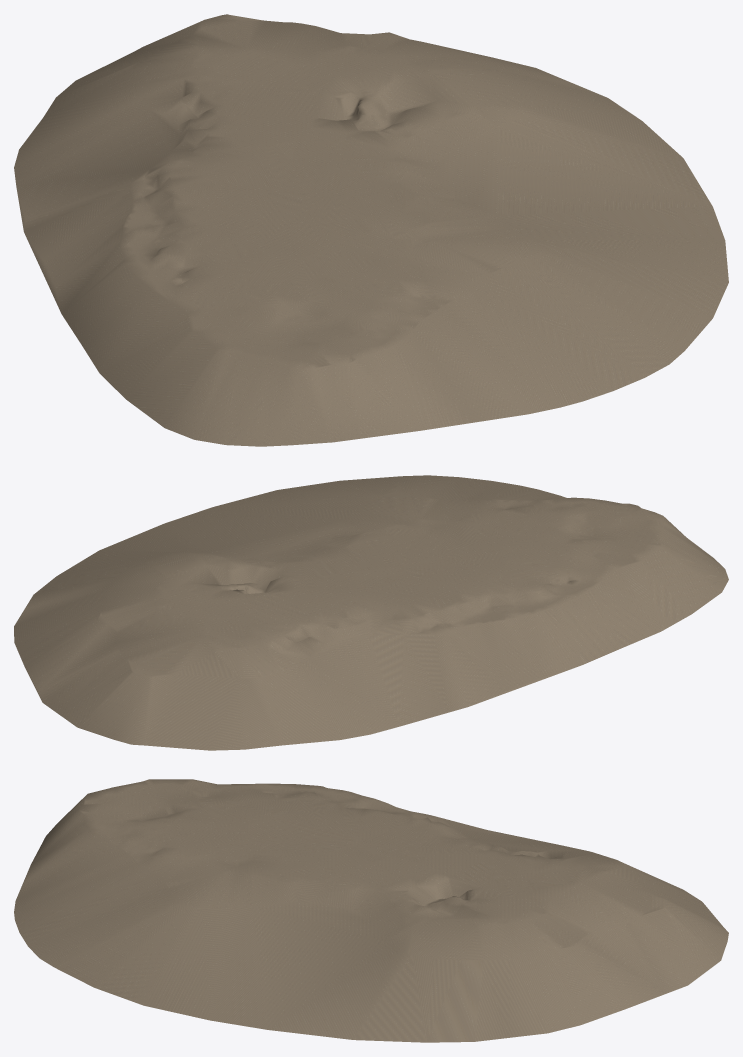
File: bamboo.dae
3 views of the same model, one above another, from view 1: azimuth 30°, elevation 25°; view 2: azimuth 150°, elevation 25°; view 3: azimuth 270°, elevation 25° (orthographic). The views are drawn at different scales.
Parts seen in each view (by area): view 1: group_1; view 2: group_1; view 3: group_1.
Boxes of the visible parts, left/top/right/bottom form: group_1: left=14, top=14, right=728, bottom=446; group_1: left=14, top=475, right=728, bottom=750; group_1: left=14, top=779, right=728, bottom=1042.
Bounding box in the file's own units: 5216 × 6362 × 512.
Materials: 1 (1 with a texture image).
